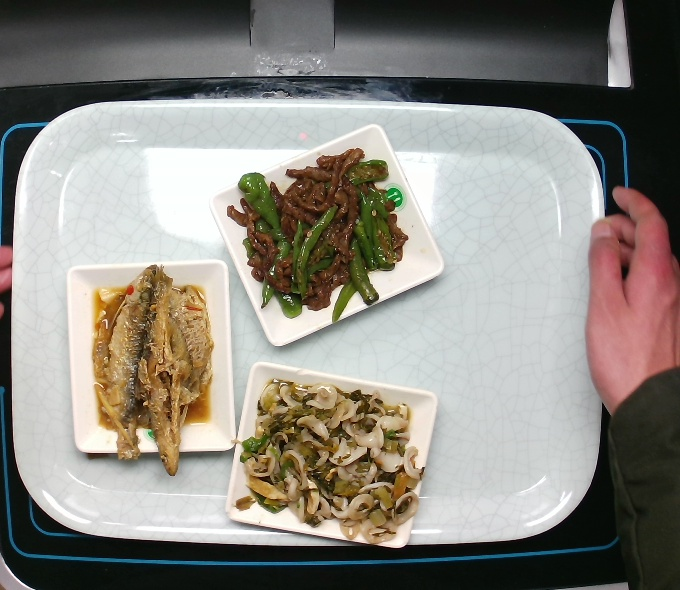wcq-QingJiaoNiuRou: (226, 148, 413, 323)
wcq-XiaoXiYu: (88, 256, 224, 475)
wcq-XueCaiYouYu: (237, 379, 428, 546)
